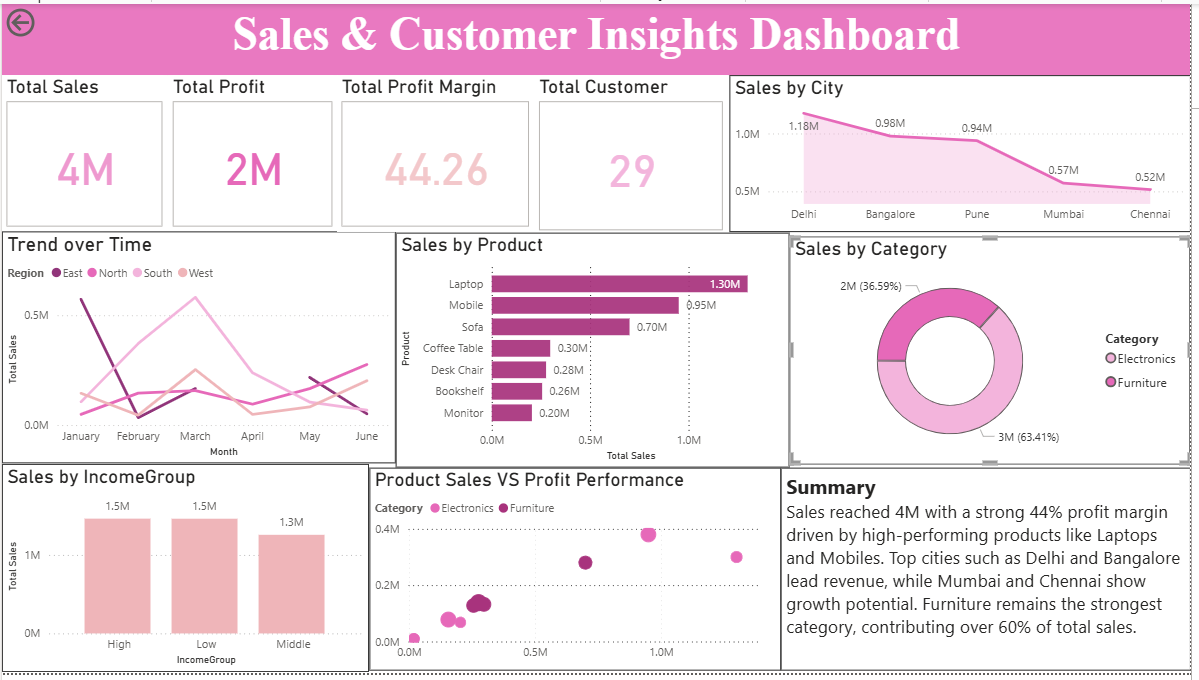

The page's visual inventory and layout, read from the dashboard file:
{"tool":"powerbi","page":{"name":"Page 1","canvas":[1280,720],"ordinal":0},"visuals":[{"type":"textbox","box":[0,0,1280.3,76.8],"z":0},{"type":"cardVisual","title":"Total Sales","fields":{"Data":["Sum(Sales.Sales)"]},"box":[0,76.8,178.4,168.8],"z":1000},{"type":"cardVisual","title":"Total Profit","fields":{"Data":["Sales.Total Profit"]},"box":[178.4,76.8,182.5,168.8],"z":2000},{"type":"cardVisual","title":"Total Customer","fields":{"Data":["Sales.Total Customers"]},"box":[573.6,76.8,208.6,172.9],"z":3000},{"type":"lineChart","title":"Trend over Time","fields":{"Y":["Sales.Total Sales"],"Category":["Sales.Date.Variation.Date Hierarchy.Year","Sales.Date.Variation.Date Hierarchy.Month"],"Series":["Sales.Region"]},"box":[0,245.6,424,249.7],"z":4000},{"type":"clusteredBarChart","title":"Sales by Product","fields":{"Y":["Sales.Total Sales"],"Category":["Products.Product"]},"box":[424.3,245.7,424.3,252.9],"z":5000},{"type":"donutChart","title":"Sales by Category","fields":{"Y":["Sales.Total Sales"],"Category":["Products.Category"]},"box":[848.6,250,431.4,245.7],"z":6000},{"type":"clusteredColumnChart","title":"Sales by IncomeGroup","fields":{"Category":["Customers.IncomeGroup"],"Y":["Sales.Total Sales"]},"box":[0,495.4,395.2,223.7],"z":7000},{"type":"actionButton","box":[0,0,100,40],"z":8000},{"type":"cardVisual","title":"Total Profit Margin","fields":{"Data":["Sum(Sales.Profit Margin %)"]},"box":[360.9,76.8,212.7,168.8],"z":9000},{"type":"scatterChart","title":"Product Sales VS Profit Performance","fields":{"X":["Sales.Total Sales"],"Y":["Sales.Total Profit"],"Category":["Sales.Product"],"Size":["Sales.Total Quantity"],"Series":["Sales.Category"]},"box":[395.7,500,442.9,218.6],"z":10000},{"type":"areaChart","title":"Sales by City","fields":{"Category":["Customers.City"],"Y":["Sales.Total Sales"]},"box":[783,77,497,169],"z":11000},{"type":"textbox","box":[838.6,500,441.4,218.6],"z":12000}]}

Visuals, with their boxes in screenshot pixels (x1, y1, x2, y2), scaled from the page's 1280x720 canvas onto the 1199x680 screenshot:
textbox: 0/0/1198/73
"Total Sales" cardVisual: 0/73/167/232
"Total Profit" cardVisual: 167/73/338/232
"Total Customer" cardVisual: 537/73/733/236
"Trend over Time" lineChart: 0/232/397/468
"Sales by Product" clusteredBarChart: 397/232/795/471
"Sales by Category" donutChart: 795/236/1198/468
"Sales by IncomeGroup" clusteredColumnChart: 0/468/370/679
actionButton: 0/0/94/38
"Total Profit Margin" cardVisual: 338/73/537/232
"Product Sales VS Profit Performance" scatterChart: 371/472/786/679
"Sales by City" areaChart: 733/73/1198/232
textbox: 786/472/1198/679
